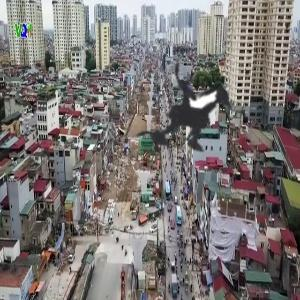drone: (93, 22, 295, 224)
